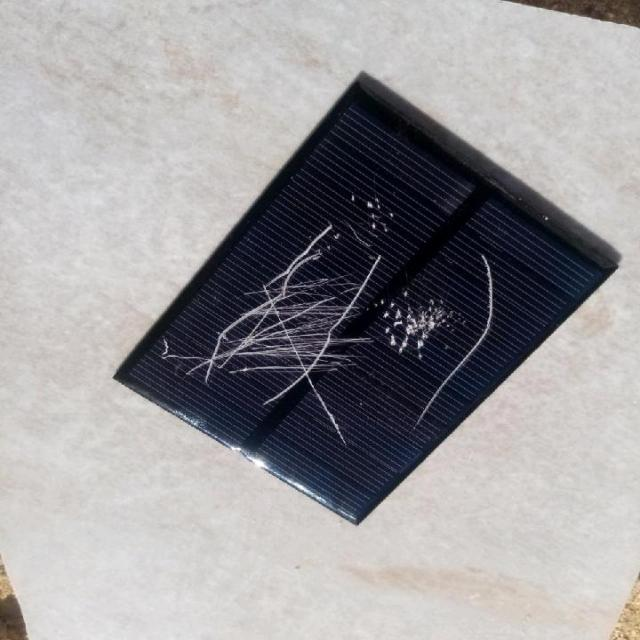faulty: (114, 81, 604, 529)
